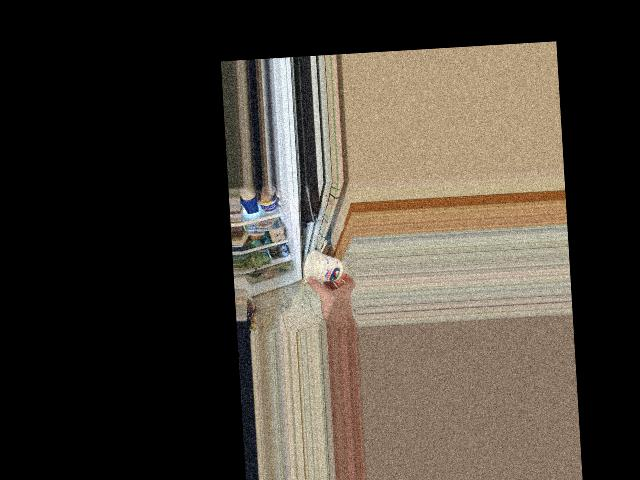cotage: (311, 248, 343, 286)
